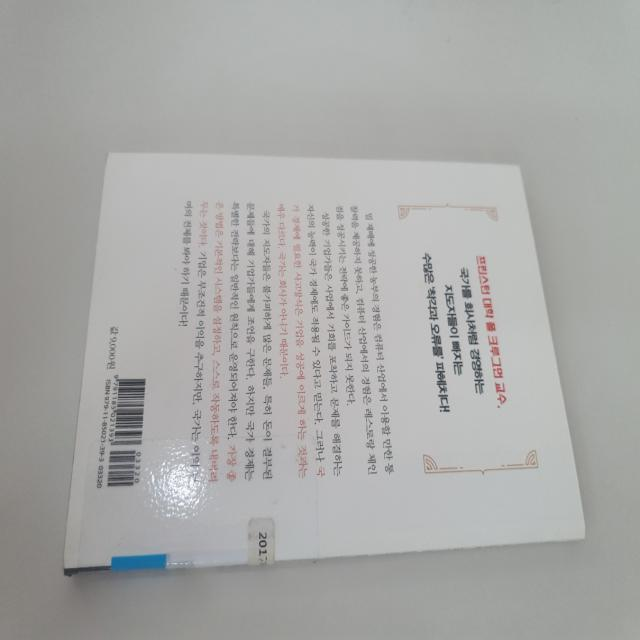Ripped: (57, 541, 93, 581)
